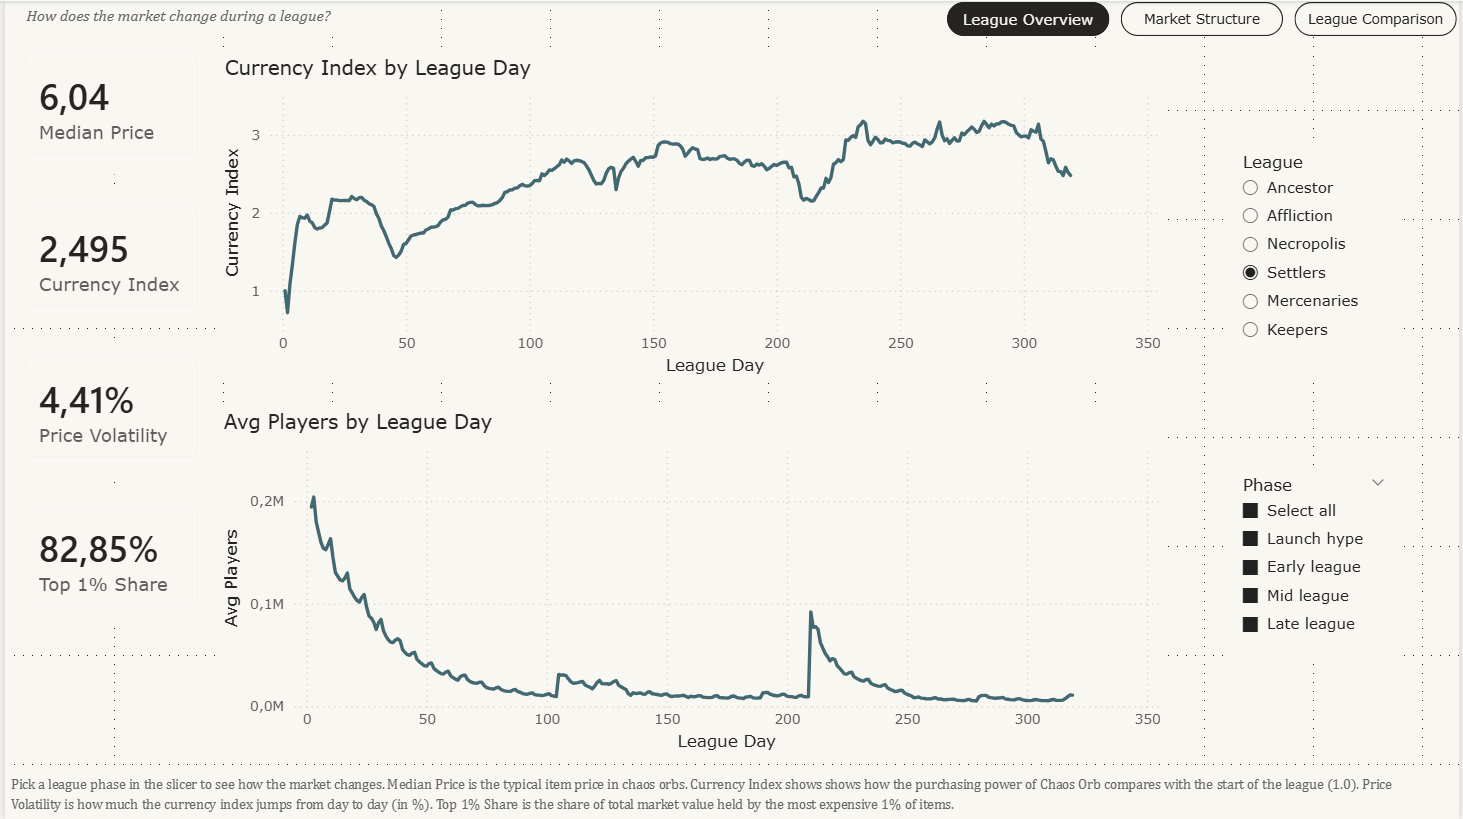

This screenshot's page, from the dashboard's own definition file:
{"tool":"powerbi","page":{"name":"League Overview","canvas":[1280,720],"ordinal":0},"visuals":[{"type":"textbox","box":[10.3,0,353.7,27.3],"z":0},{"type":"textbox","box":[0,676.4,1269.4,43.6],"z":1000},{"type":"cardVisual","fields":{"Data":["_Measures.Median Price"]},"box":[0,31,187.6,121.8],"z":2000},{"type":"cardVisual","fields":{"Data":["_Measures.Price Volatility"]},"box":[0,298.3,187.6,120.4],"z":3000},{"type":"cardVisual","fields":{"Data":["_Measures.Currency Index"]},"box":[0,164.7,187.6,121.8],"z":4000},{"type":"cardVisual","fields":{"Data":["_Measures.Top 1% Share"]},"box":[0,430.5,187.6,117.4],"z":5000},{"type":"lineChart","title":"Avg Players by League Day","fields":{"Category":["fact_daily_league.league_day"],"Y":["_Measures.Avg Players"]},"box":[187.6,360.4,835.2,305],"z":6000},{"type":"slicer","fields":{"Values":["dim_league.league"]},"box":[1077.4,127,150.6,206],"z":7000},{"type":"lineChart","title":"Currency Index by League Day","fields":{"Category":["fact_daily_league.league_day"],"Y":["_Measures.Currency Index"]},"box":[188.3,48,834.5,285],"z":8000},{"type":"slicer","fields":{"Values":["dim_date.phase"]},"box":[1077.4,411.3,150.6,171.3],"z":9000},{"type":"pageNavigator","box":[830,1,450,30],"z":10000}]}

Visuals, with their boxes in screenshot pixels (x1, y1, x2, y2), scaled from the page's 1280x720 canvas onto the 1463x819 screenshot:
textbox: (x1=12, y1=0, x2=416, y2=31)
textbox: (x1=0, y1=769, x2=1451, y2=818)
cardVisual - _Measures.Median Price: (x1=0, y1=35, x2=214, y2=174)
cardVisual - _Measures.Price Volatility: (x1=0, y1=339, x2=214, y2=476)
cardVisual - _Measures.Currency Index: (x1=0, y1=187, x2=214, y2=326)
cardVisual - _Measures.Top 1% Share: (x1=0, y1=490, x2=214, y2=623)
"Avg Players by League Day" lineChart: (x1=214, y1=410, x2=1169, y2=757)
slicer - dim_league.league: (x1=1231, y1=144, x2=1404, y2=379)
"Currency Index by League Day" lineChart: (x1=215, y1=55, x2=1169, y2=379)
slicer - dim_date.phase: (x1=1231, y1=468, x2=1404, y2=663)
pageNavigator: (x1=949, y1=1, x2=1462, y2=35)
